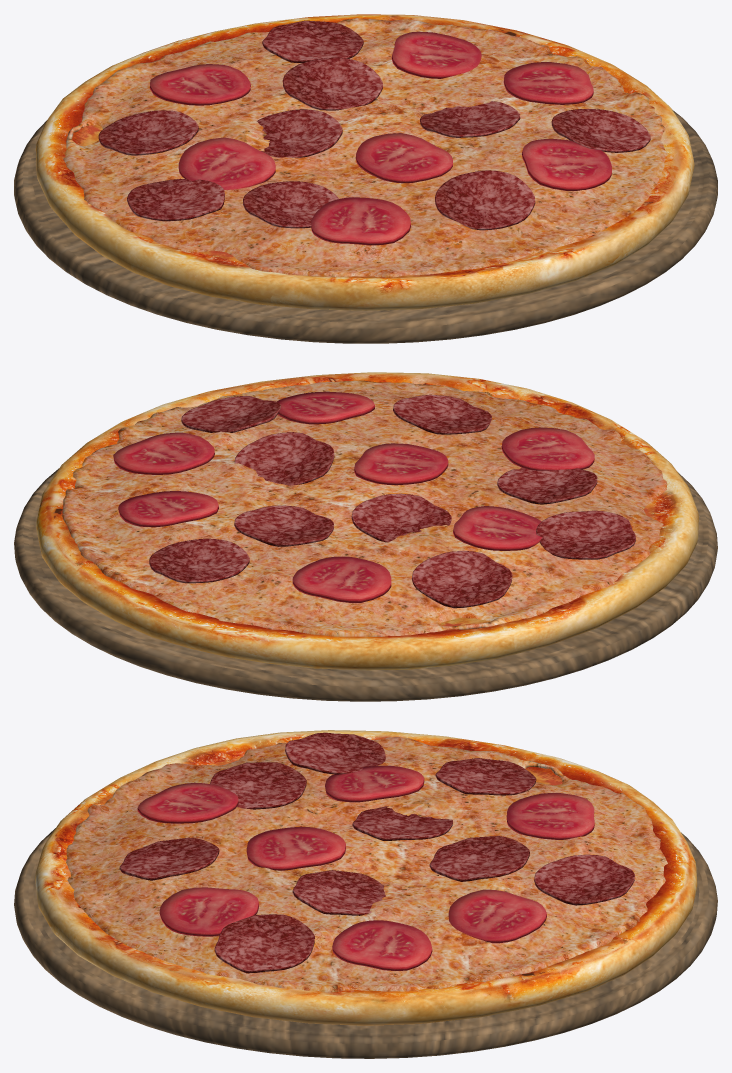
The model's file is Pizza_FBX.fbx.
The picture shows the model from 3 angles, top to bottom: view 1: azimuth 30°, elevation 25°; view 2: azimuth 150°, elevation 25°; view 3: azimuth 270°, elevation 25°; orthographic projection.
Visible parts, largest first — view 1: Cheese, Pizza, Salami, Wood_deck, Tomatoes; view 2: Cheese, Pizza, Salami, Wood_deck, Tomatoes; view 3: Cheese, Pizza, Salami, Wood_deck, Tomatoes.
Part boxes in pixels (x1,y1,x2,y2): Cheese: [63, 18, 667, 277]; Pizza: [35, 14, 694, 310]; Salami: [98, 20, 650, 230]; Wood_deck: [14, 110, 717, 343]; Tomatoes: [150, 31, 611, 245]; Cheese: [62, 380, 667, 636]; Pizza: [36, 372, 698, 670]; Salami: [149, 394, 635, 608]; Wood_deck: [14, 468, 717, 701]; Tomatoes: [113, 391, 594, 602]; Cheese: [66, 737, 667, 992]; Pizza: [35, 730, 697, 1025]; Salami: [119, 732, 634, 973]; Wood_deck: [14, 828, 717, 1058]; Tomatoes: [137, 765, 594, 970].
Size of the model in its own units: 60.1 by 6.91 by 60.1.
